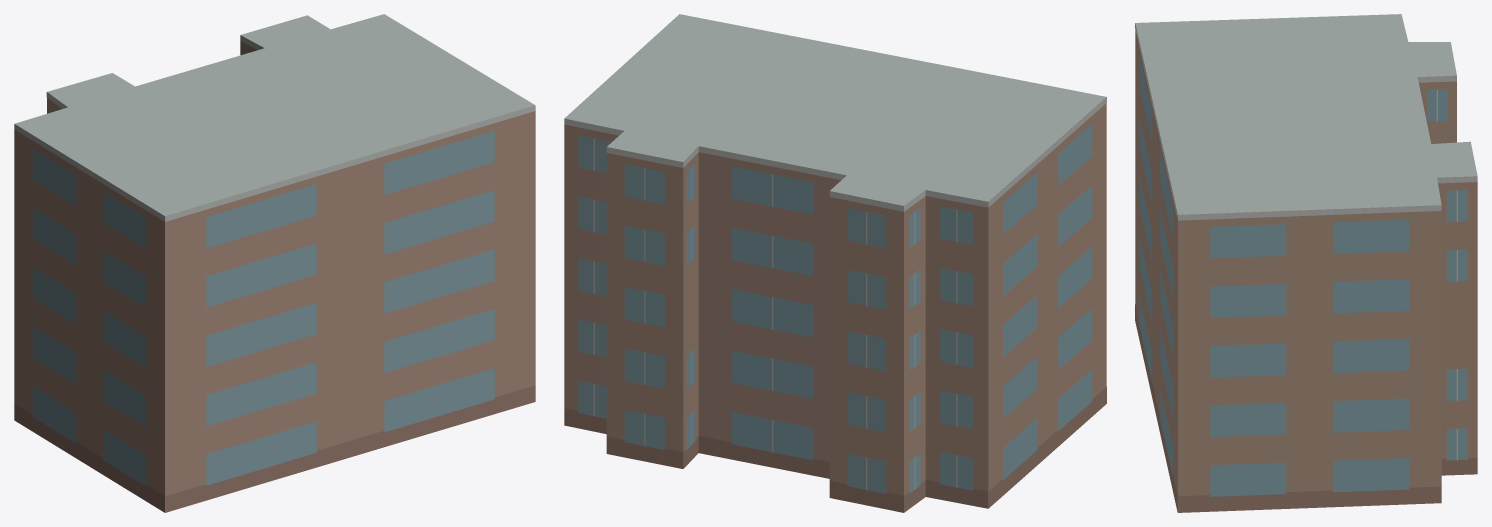
File: survey-upis-32755788.glb
The picture shows the model from 3 angles, left to right: view 1: azimuth 30°, elevation 25°; view 2: azimuth 150°, elevation 25°; view 3: azimuth 270°, elevation 25°; orthographic projection. The views are drawn at different scales.
Parts seen in each view (by area): view 1: survey-upis-32755788.tmp; view 2: survey-upis-32755788.tmp; view 3: survey-upis-32755788.tmp.
Part boxes in pixels (x1,y1,x2,y2): survey-upis-32755788.tmp: (14,14,535,512); survey-upis-32755788.tmp: (564,14,1106,512); survey-upis-32755788.tmp: (1135,14,1477,512).
Bounding box in the file's own units: 18.38 × 12.7 × 13.24.
